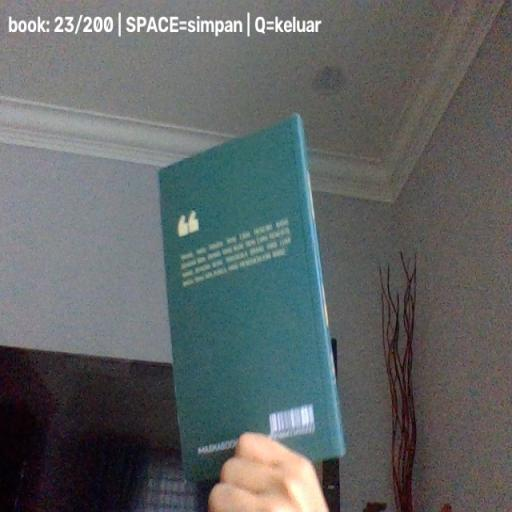Book: (158, 114, 348, 479)
